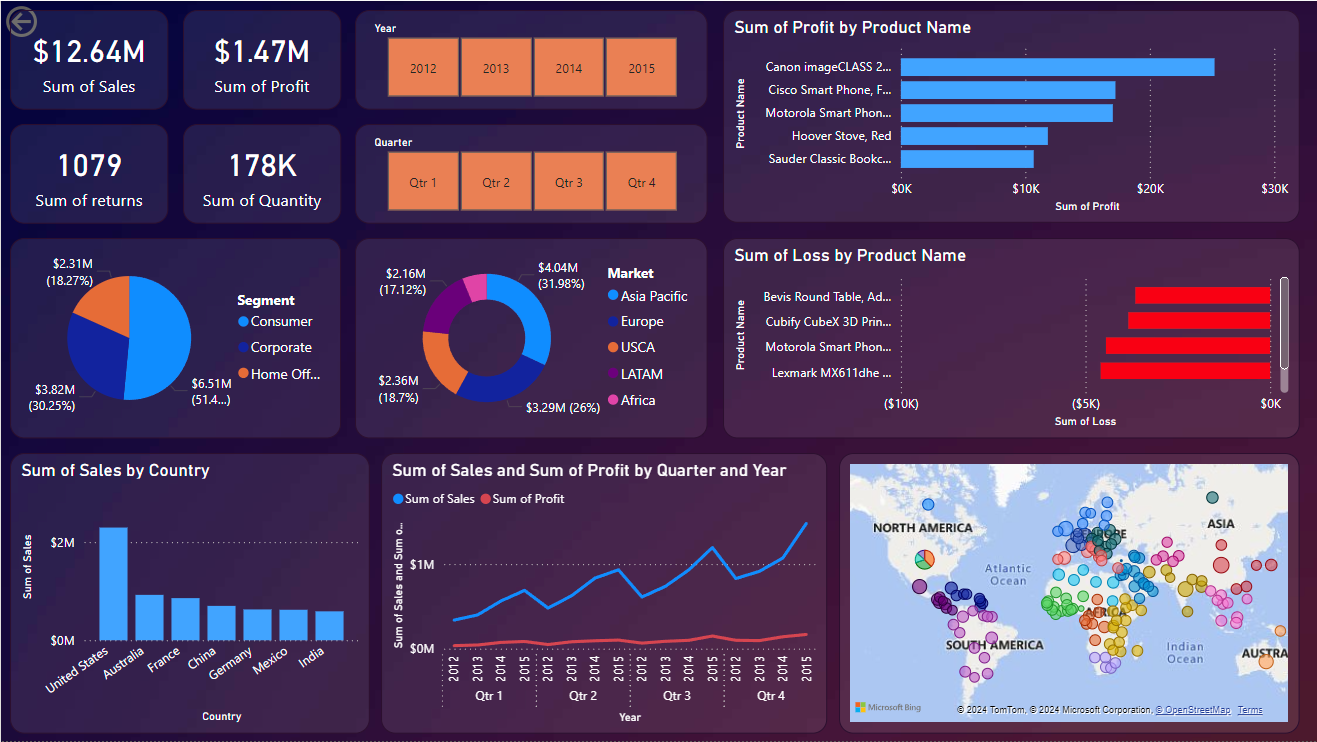

What the dashboard file says about the page in this screenshot:
{"tool":"powerbi","page":{"name":"Page 1","canvas":[1280,720],"ordinal":0},"visuals":[{"type":"slicer","fields":{"Values":["Orders.Order Date.Variation.Date Hierarchy.Year"]},"box":[344.3,8.8,343.3,97.3],"z":0},{"type":"card","fields":{"Values":["Sum(Orders.Profit)"]},"box":[177,8.8,153.7,97.3],"z":1000},{"type":"map","fields":{"Category":["Orders.Country"],"Size":["Sum(Orders.Profit)"],"Series":["Orders.Region"]},"box":[815.1,439.6,448.4,273.3],"z":2000},{"type":"actionButton","box":[0,0,100,40],"z":3000},{"type":"columnChart","fields":{"Category":["Orders.Country"],"Y":["Sum(Orders.Sales)"]},"box":[9,439.7,350.1,273.1],"z":4000},{"type":"card","fields":{"Values":["Sum(Orders.Sales)"]},"box":[8.8,8.8,153.7,97.3],"z":5000},{"type":"card","fields":{"Values":["Sum(Returns.returns)"]},"box":[8.8,119.6,153.7,97.3],"z":6000},{"type":"card","fields":{"Values":["Sum(Orders.Quantity)"]},"box":[177,119.6,153.7,97.3],"z":7000},{"type":"slicer","fields":{"Values":["Orders.Order Date.Variation.Date Hierarchy.Quarter"]},"box":[344.3,119.6,343.3,97.3],"z":8000},{"type":"donutChart","fields":{"Y":["Sum(Orders.Sales)"],"Category":["Orders.Market"]},"box":[344.3,230.5,343.3,194.5],"z":9000},{"type":"pieChart","fields":{"Category":["Orders.Segment"],"Y":["Sum(Orders.Sales)"]},"box":[8.8,230.5,321.9,194.5],"z":10000},{"type":"barChart","title":"Sum of Loss by Product Name","fields":{"Category":["Orders.Product Name"],"Y":["Sum(Orders.Profit)"]},"box":[702.2,230.5,561.2,194.5],"z":11000},{"type":"barChart","fields":{"Category":["Orders.Product Name"],"Y":["Sum(Orders.Profit)"]},"box":[702.2,8.8,561.2,207.2],"z":12000},{"type":"lineChart","fields":{"Y":["Sum(Orders.Sales)","Sum(Orders.Profit)"],"Category":["Orders.Order Date.Variation.Date Hierarchy.Quarter","Orders.Order Date.Variation.Date Hierarchy.Year"]},"box":[369.6,439.6,433.8,273.3],"z":13000}]}

Visuals, with their boxes in screenshot pixels (x1, y1, x2, y2), scaled from the page's 1280x720 canvas onto the 1317x742 screenshot:
slicer - Orders.Order Date.Variation.Date Hierarchy.Year: bbox=(354, 9, 707, 109)
card - Sum(Orders.Profit): bbox=(182, 9, 340, 109)
map - Orders.Country x Sum(Orders.Profit): bbox=(839, 453, 1300, 735)
actionButton: bbox=(0, 0, 103, 41)
columnChart - Orders.Country x Sum(Orders.Sales): bbox=(9, 453, 369, 735)
card - Sum(Orders.Sales): bbox=(9, 9, 167, 109)
card - Sum(Returns.returns): bbox=(9, 123, 167, 224)
card - Sum(Orders.Quantity): bbox=(182, 123, 340, 224)
slicer - Orders.Order Date.Variation.Date Hierarchy.Quarter: bbox=(354, 123, 707, 224)
donutChart - Sum(Orders.Sales) x Orders.Market: bbox=(354, 238, 707, 438)
pieChart - Orders.Segment x Sum(Orders.Sales): bbox=(9, 238, 340, 438)
"Sum of Loss by Product Name" barChart: bbox=(722, 238, 1300, 438)
barChart - Orders.Product Name x Sum(Orders.Profit): bbox=(722, 9, 1300, 223)
lineChart - Sum(Orders.Sales) x Sum(Orders.Profit): bbox=(380, 453, 827, 735)
